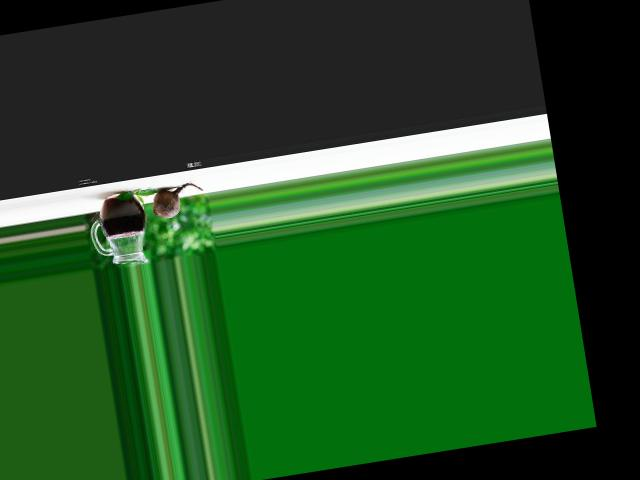beet: (149, 180, 205, 219)
